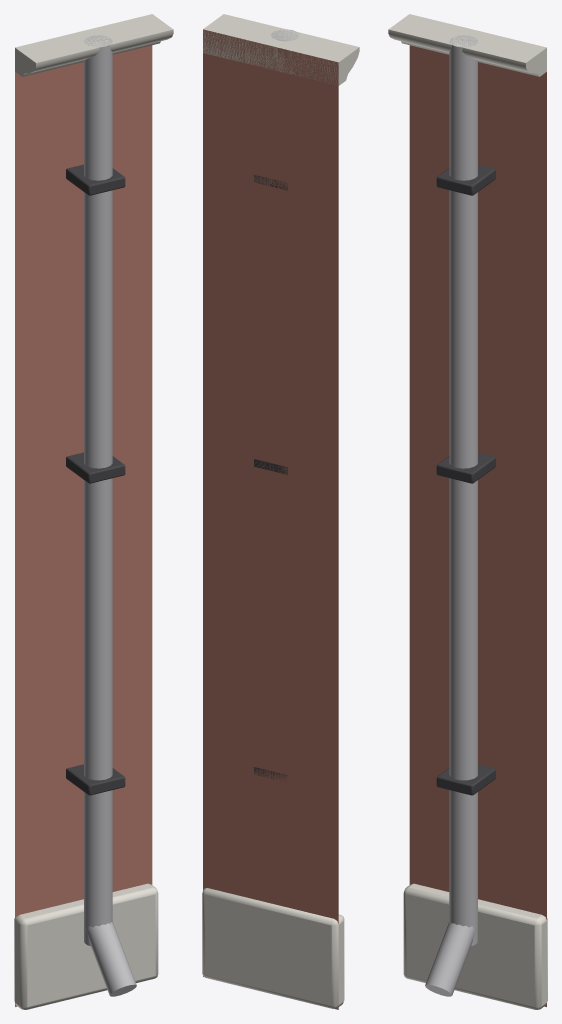
The model's file is filler_downpipe_g_06.glb.
3 views of the same model, side by side, from view 1: azimuth 30°, elevation 25°; view 2: azimuth 150°, elevation 25°; view 3: azimuth 330°, elevation 25° (orthographic).
Parts seen in each view (by area): view 1: filler_downpipe_g_06; view 2: filler_downpipe_g_06; view 3: filler_downpipe_g_06.
Boxes of the visible parts, x1,y1,x2,y2 form: filler_downpipe_g_06: (14,14,173,1009); filler_downpipe_g_06: (202,14,359,1009); filler_downpipe_g_06: (388,14,547,1009).
Size of the model in its own units: 0.6 by 4 by 0.3589.
